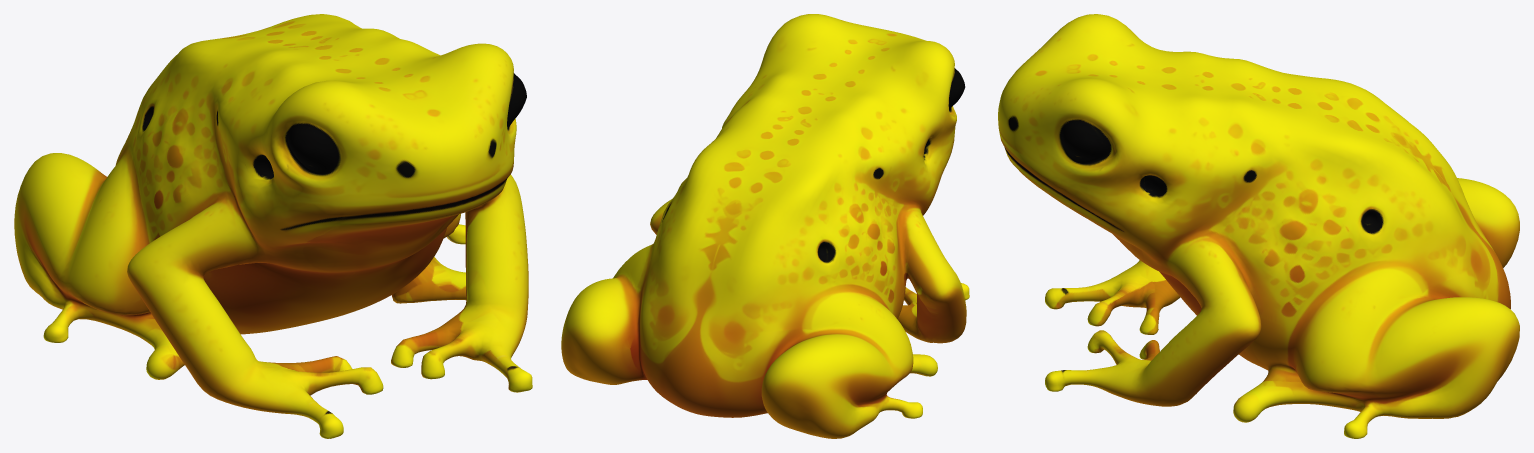
File: Rana.glb
3 renders of one model, left to right at view 1: azimuth 30°, elevation 25°; view 2: azimuth 150°, elevation 25°; view 3: azimuth 270°, elevation 25°, orthographic. The views are drawn at different scales.
Visible parts, largest first — view 1: model; view 2: model; view 3: model.
Boxes of the visible parts, box(x1,y1,x2,y2) form: model: box(14, 14, 532, 438); model: box(561, 14, 969, 438); model: box(998, 14, 1519, 438).
Size of what is drawn, in the model's own units: 1.61 by 1.21 by 1.91.
Materials: 1 (1 with a texture image).
